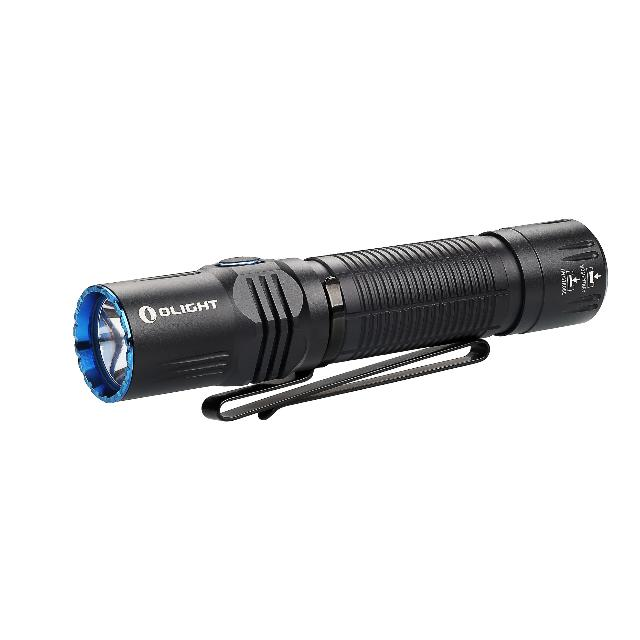Flashlight: (65, 210, 617, 432)
